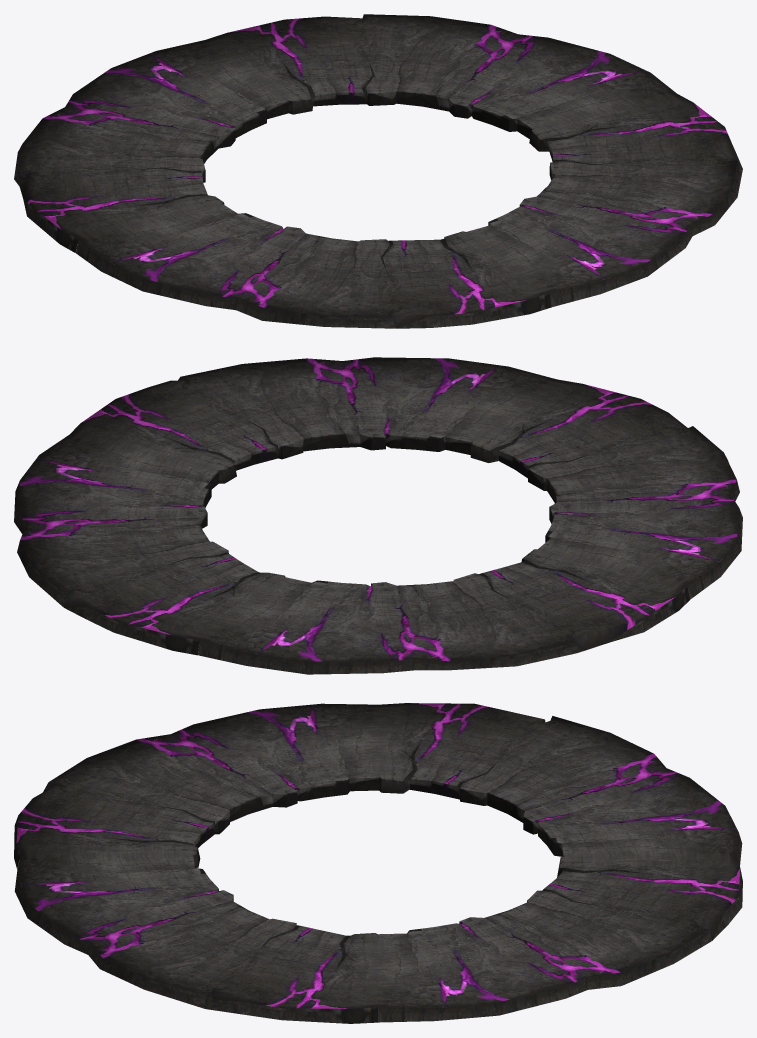
Rendered from DN_mwcx_02.FBX.
3 renders of one model, top to bottom at view 1: azimuth 30°, elevation 25°; view 2: azimuth 150°, elevation 25°; view 3: azimuth 270°, elevation 25°, orthographic. The views are drawn at different scales.
Parts seen in each view (by area): view 1: DN_mwcx_02; view 2: DN_mwcx_02; view 3: DN_mwcx_02.
Part boxes in pixels (box(x1,y1,x2,y2)): DN_mwcx_02: box(14, 14, 742, 328); DN_mwcx_02: box(14, 357, 742, 674); DN_mwcx_02: box(14, 703, 742, 1023).
Size of the model in its own units: 8150 by 183 by 8150.
1 material, 1 textured.
